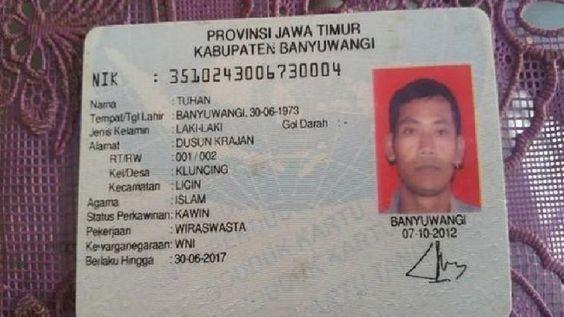ID-card: (73, 11, 510, 314)
